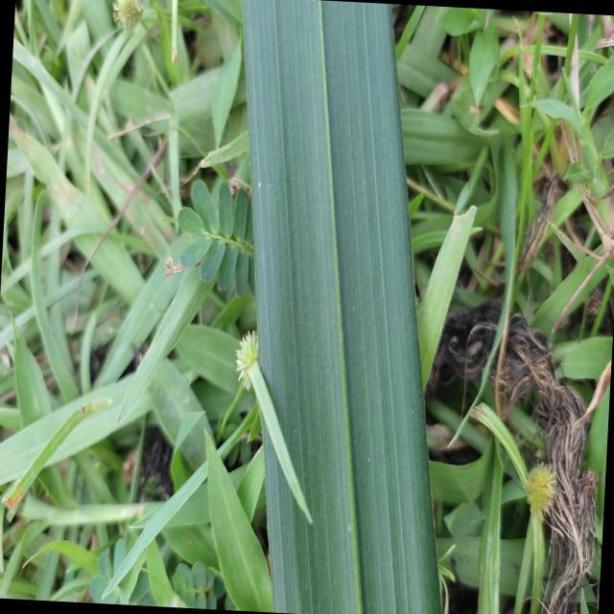Healthy: (241, 1, 436, 614)
